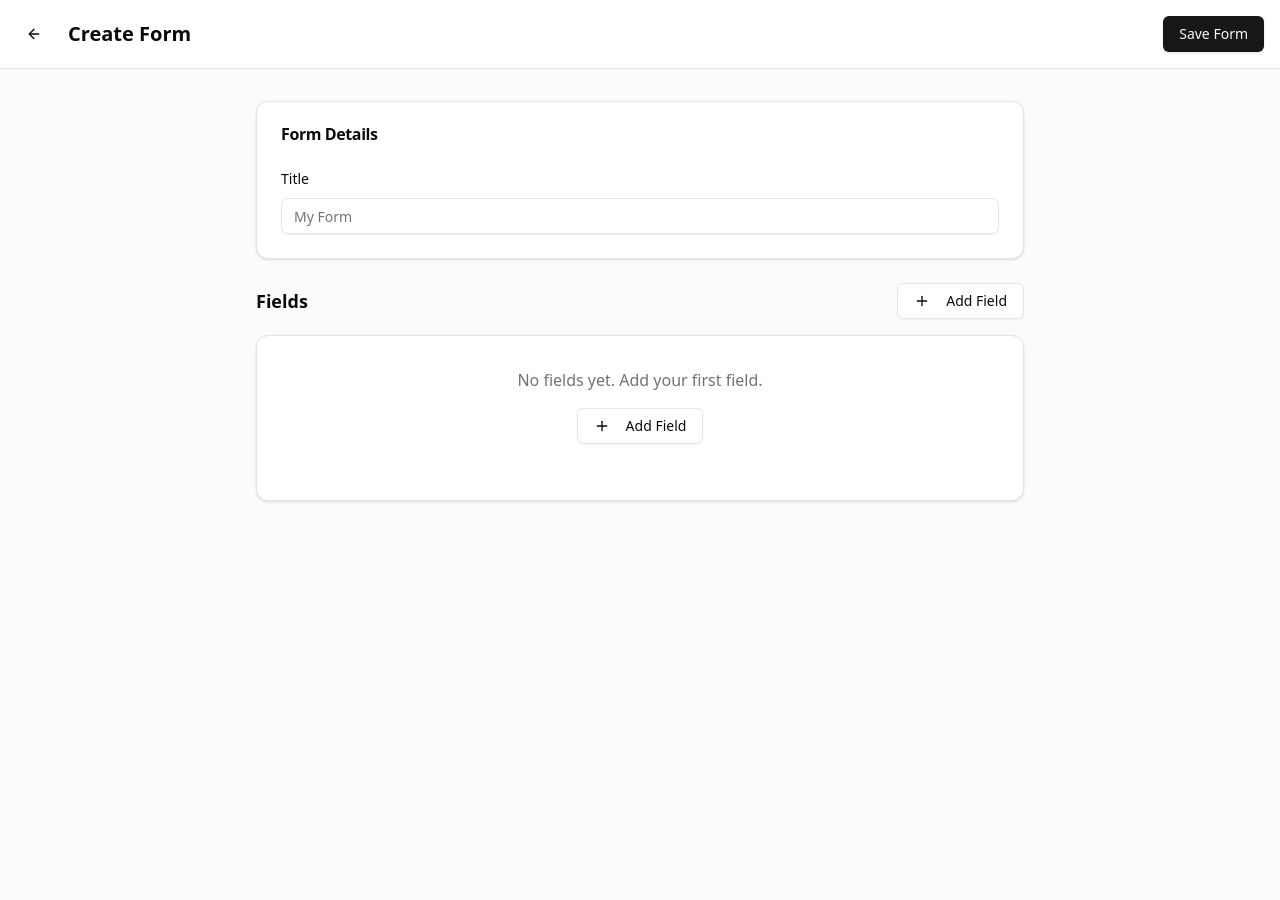
Test: BuilderPage › can add multiple fields
Click the 1st button "Add Field".
click(961, 301)  # box [897,283,1024,319]
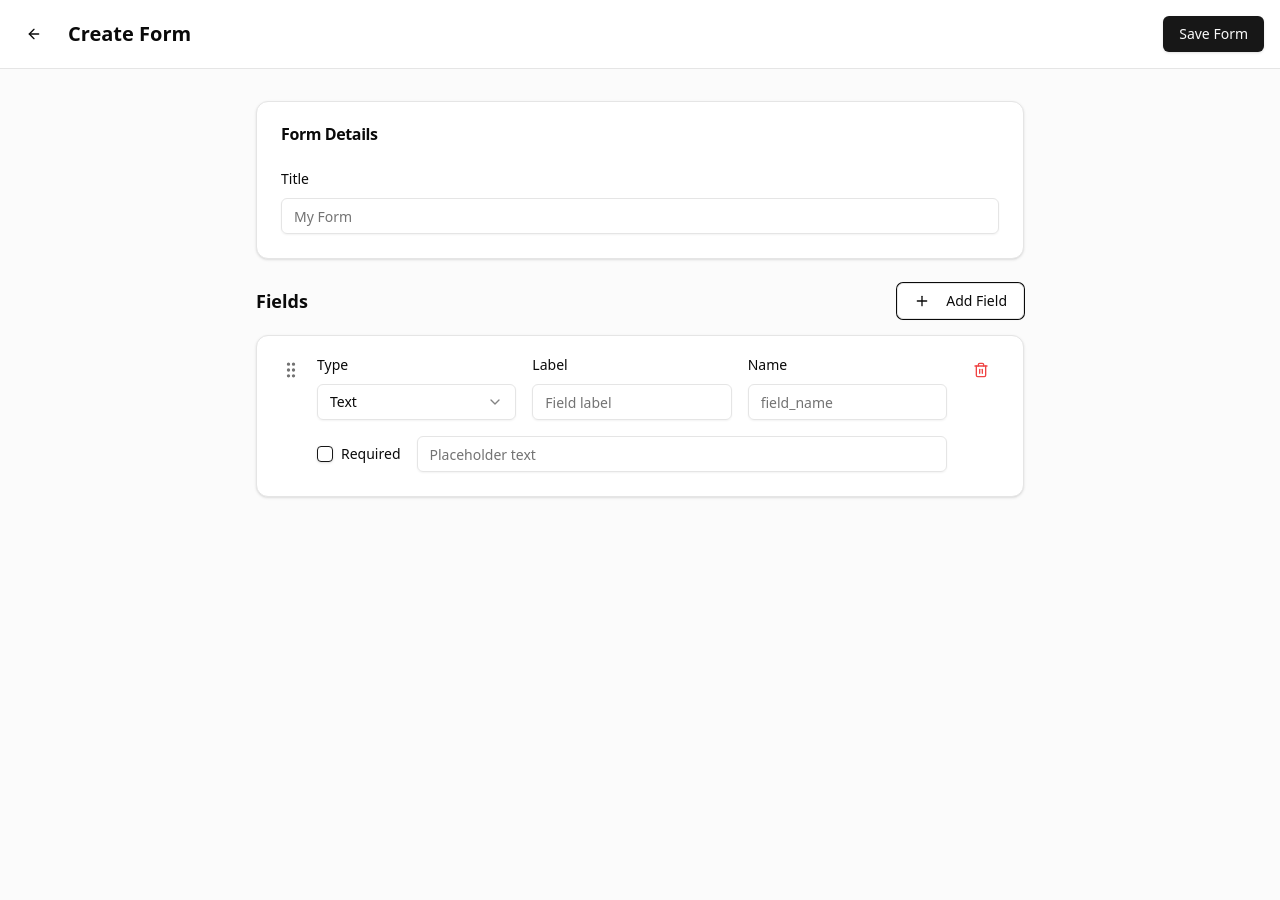
Click the button "Add Field".
click(961, 301)  # box [897,283,1024,319]
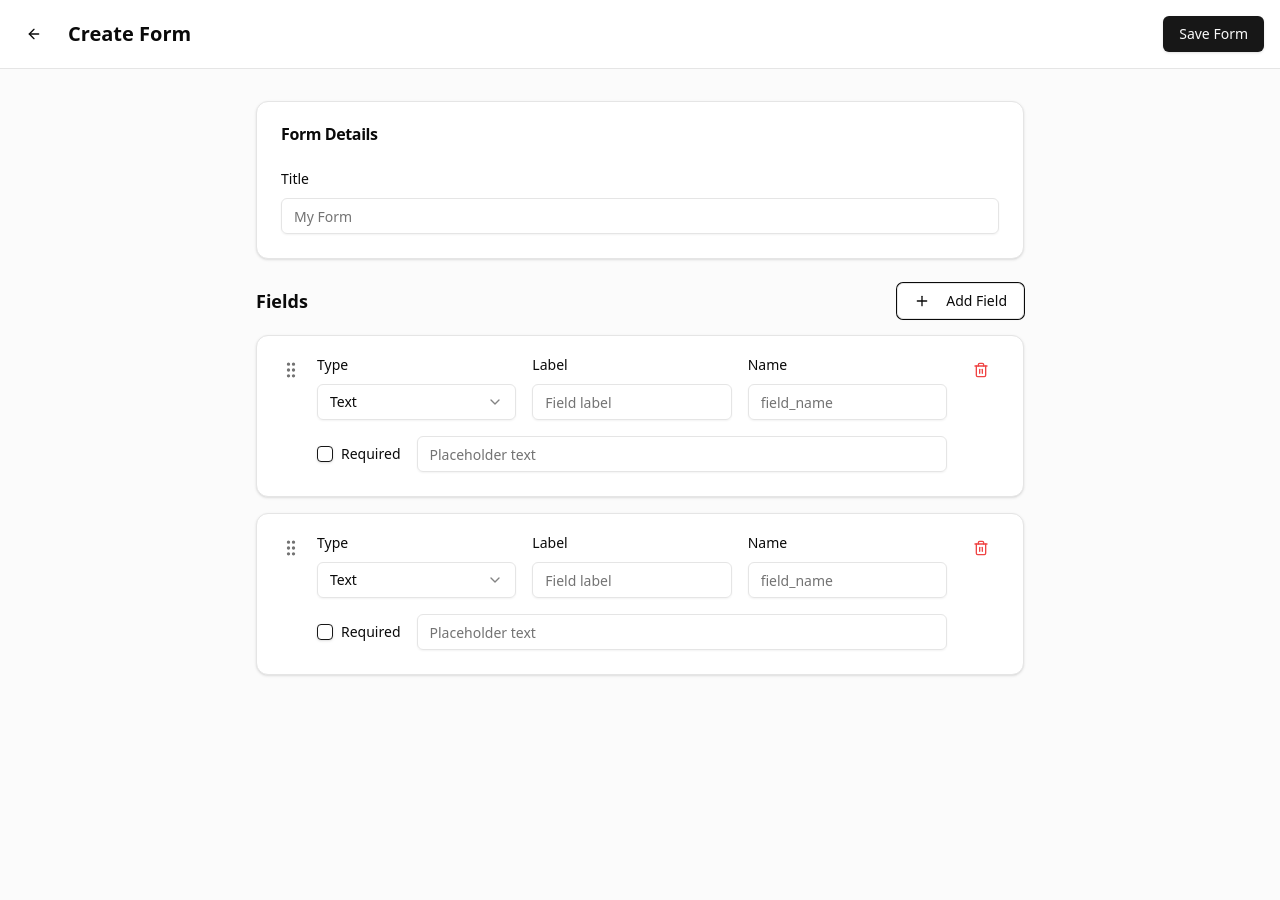
Now the number of fields with placeholder "Field label" is 2, box [532,384,732,420]; [532,562,732,598]
